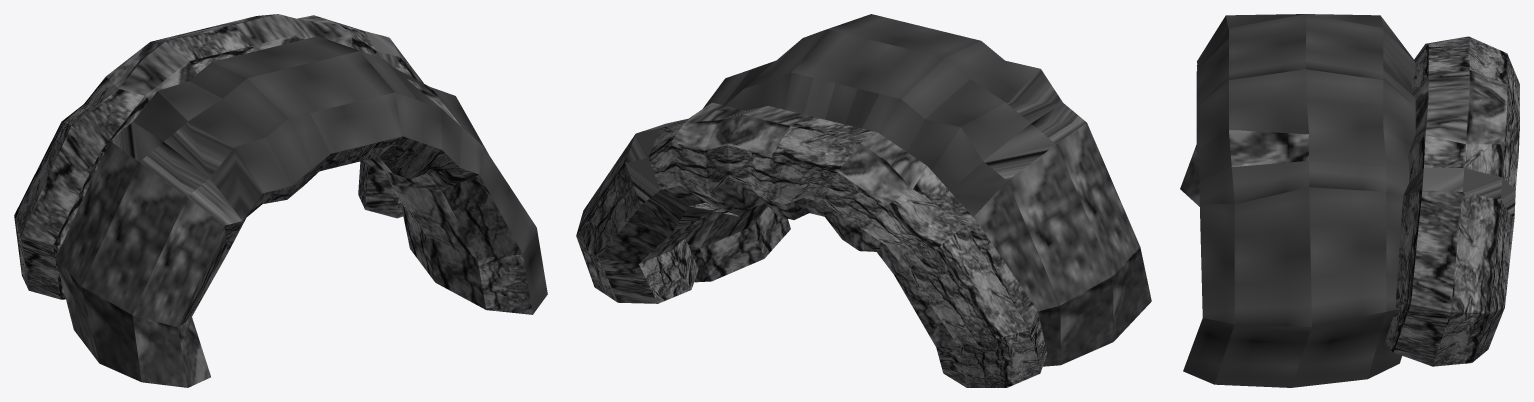
The model's file is cave.fbx.
3 views of the same model, side by side, from view 1: azimuth 30°, elevation 25°; view 2: azimuth 150°, elevation 25°; view 3: azimuth 270°, elevation 25° (orthographic). The views are drawn at different scales.
Visible parts, largest first — view 1: cave2, cave1; view 2: cave2, cave1; view 3: cave2, cave1.
Boxes of the visible parts, x1,y1,x2,y2 form: cave2: (55, 36, 547, 387); cave1: (14, 14, 423, 299); cave2: (685, 14, 1151, 366); cave1: (576, 102, 1047, 387); cave2: (1180, 14, 1415, 387); cave1: (1384, 36, 1519, 366).
Size of the model in its own units: 275 by 147 by 183.
1 material, 1 textured.
